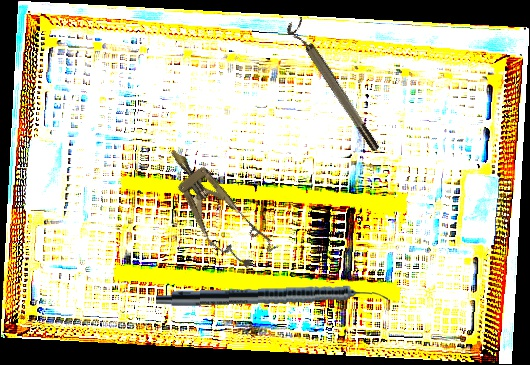Fixation Ring: (283, 16, 383, 157)
Handpiece: (155, 282, 389, 313)
Speculum: (151, 134, 279, 280)
